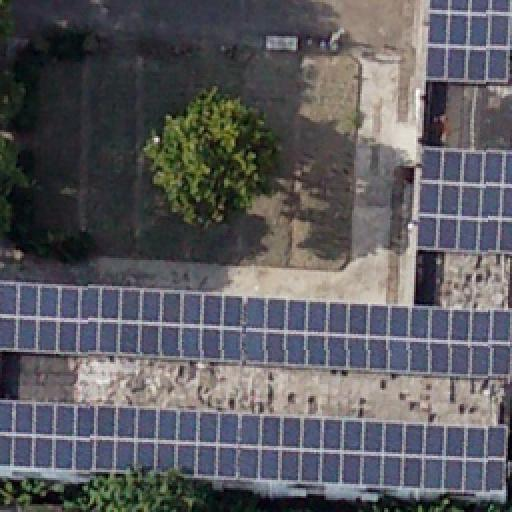solar-panel: (0, 276, 512, 390), (0, 397, 511, 507), (410, 135, 512, 269), (420, 0, 512, 96)
